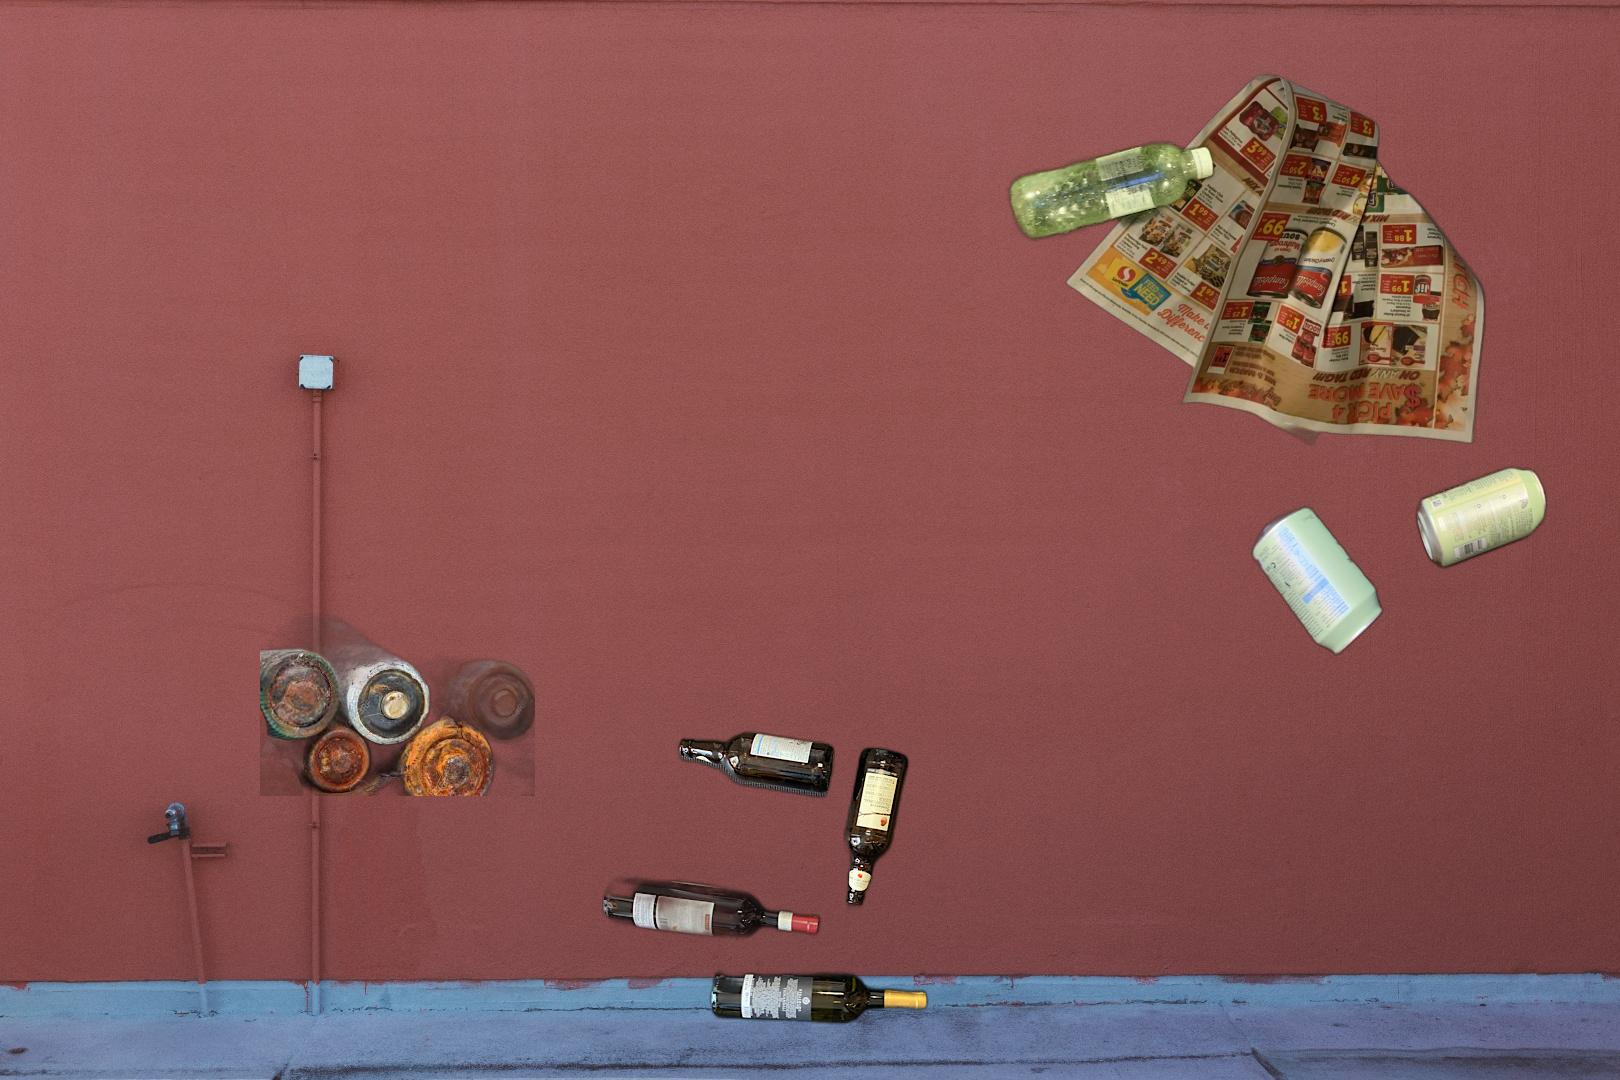battery: (260, 614, 535, 796)
glass: (599, 726, 932, 1031)
metal-cans: (1275, 460, 1552, 1019), (1248, 501, 1586, 715)
paper: (1062, 72, 1490, 448)
plastic-bottles: (1003, 136, 1221, 258)
